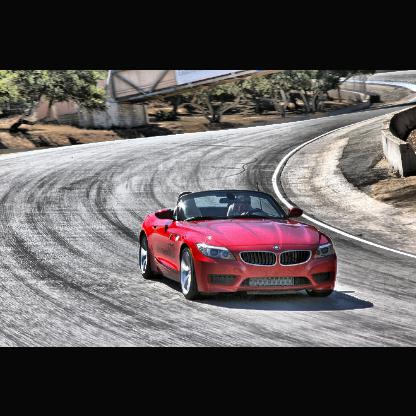BMW Z4 Convertible 2012: (139, 192, 339, 299)
